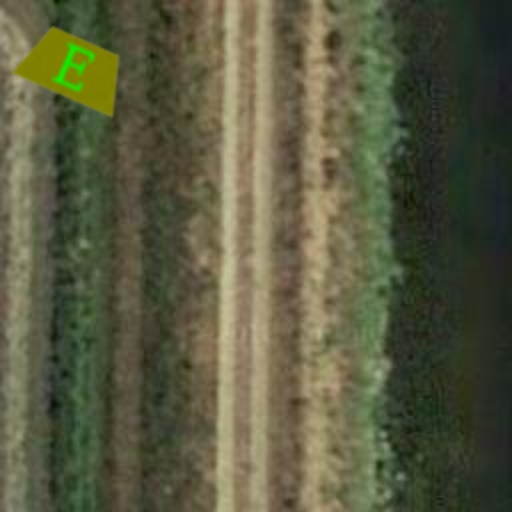trapezoid: (0, 0, 148, 146)
